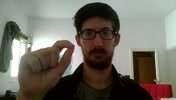hand: (33, 19, 89, 74)
